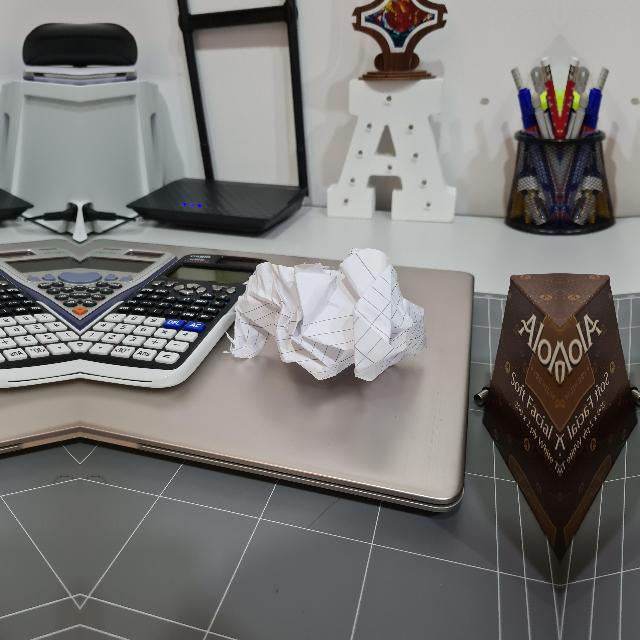paper: (233, 248, 422, 389)
